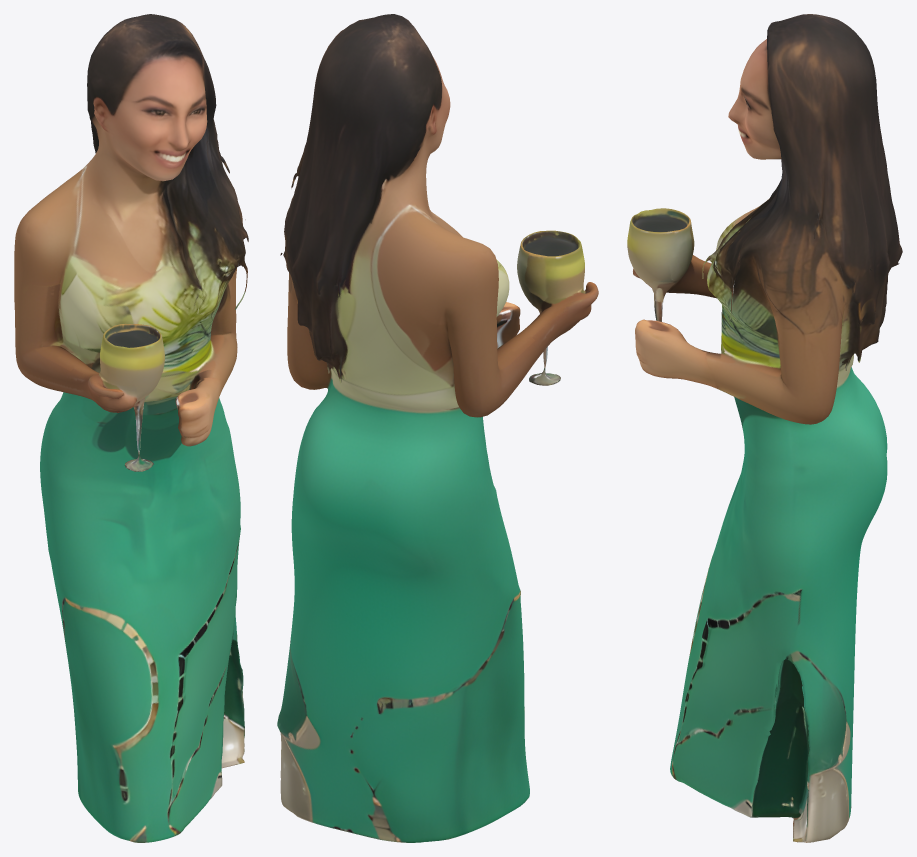
Rendered from anajulia.glb.
3 views of the same model, side by side, from view 1: azimuth 30°, elevation 25°; view 2: azimuth 150°, elevation 25°; view 3: azimuth 270°, elevation 25° (orthographic). The views are drawn at different scales.
Visible parts, largest first — view 1: model; view 2: model; view 3: model.
Boxes of the visible parts, x1,y1,x2,y2 form: model: [14, 14, 248, 842]; model: [277, 14, 598, 842]; model: [627, 14, 902, 842].
Bounding box in the file's own units: 0.5895 × 1.9 × 0.6091.
Materials: 1 (1 with a texture image).
